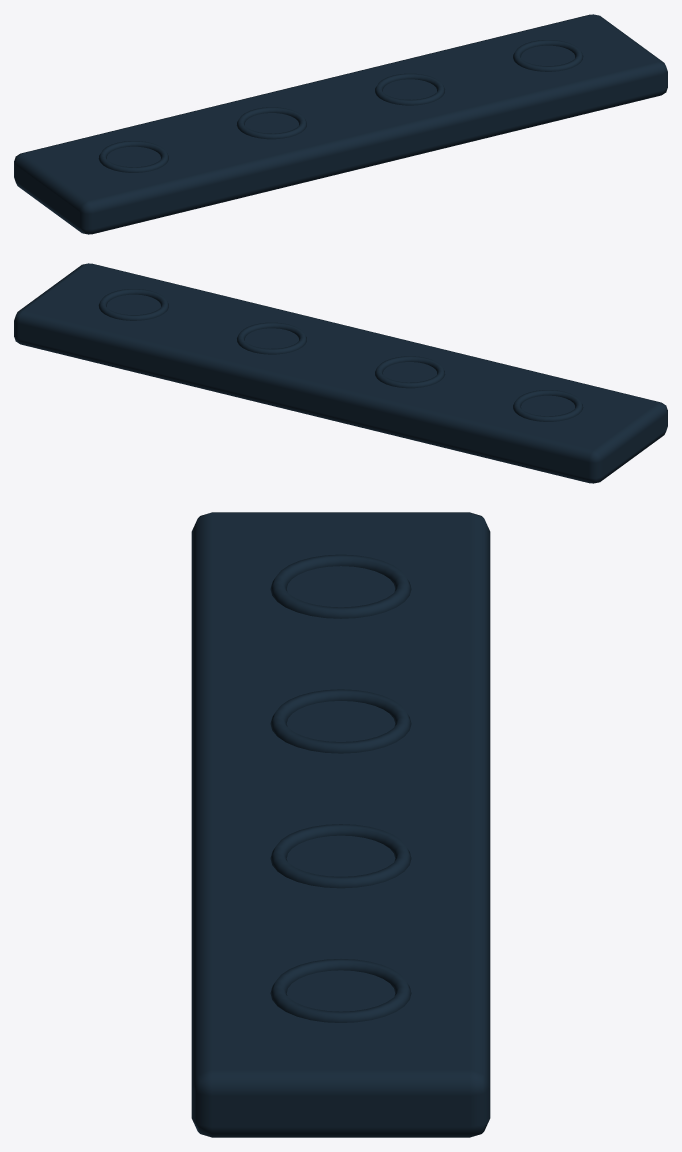
File: SM_SauceCaddy.glb
The picture shows the model from 3 angles, top to bottom: view 1: azimuth 30°, elevation 25°; view 2: azimuth 150°, elevation 25°; view 3: azimuth 270°, elevation 25°; orthographic projection. The views are drawn at different scales.
Visible parts, largest first — view 1: SM_SauceCaddy; view 2: SM_SauceCaddy; view 3: SM_SauceCaddy.
Part boxes in pixels (left/top/right/bottom): SM_SauceCaddy: left=14, top=14, right=667, bottom=234; SM_SauceCaddy: left=14, top=263, right=667, bottom=483; SM_SauceCaddy: left=191, top=512, right=490, bottom=1137.
Bounding box in the file's own units: 1 × 0.0602 × 0.22.
1 material, 1 textured.
